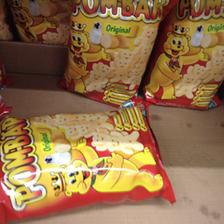Chips: (1, 106, 172, 218), (61, 0, 163, 108), (146, 2, 222, 108)
